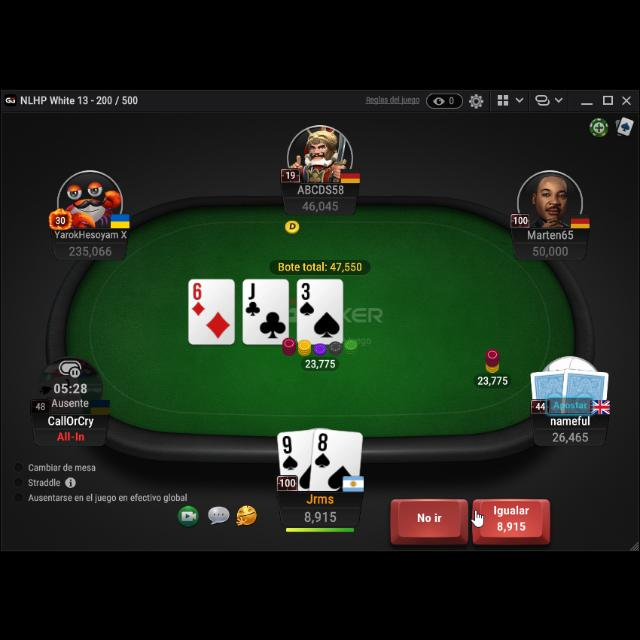3s: (298, 280, 318, 318)
6d: (190, 280, 207, 316)
8s: (313, 432, 335, 468)
9s: (280, 432, 300, 472)
Jc: (244, 281, 264, 317)
all_in_symbol: (54, 430, 86, 442)
bet_text: (304, 356, 338, 370), (476, 373, 510, 387)
card_back: (560, 366, 610, 416), (530, 369, 572, 417)
dealer: (283, 217, 303, 235)
hero_active: (387, 494, 553, 546)
pot_text: (276, 261, 364, 273)
stack_text: (66, 242, 114, 258), (302, 198, 341, 212), (532, 244, 570, 258), (550, 431, 590, 444), (302, 510, 342, 522)
